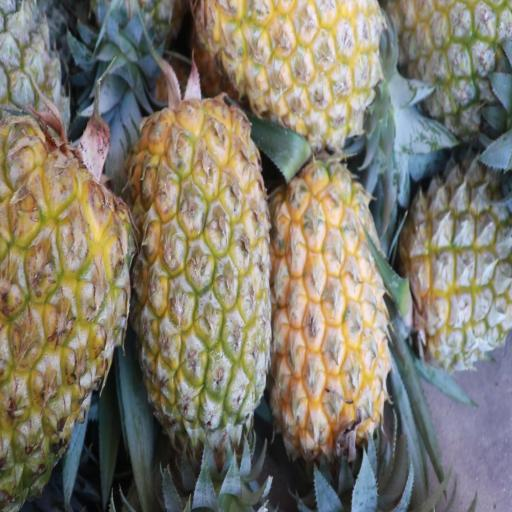------------------------------: (400, 165, 512, 370)
Pineapple - v8 v1: (0, 120, 132, 502), (134, 108, 271, 436), (271, 172, 390, 450), (200, 0, 382, 133), (393, 0, 512, 142)
